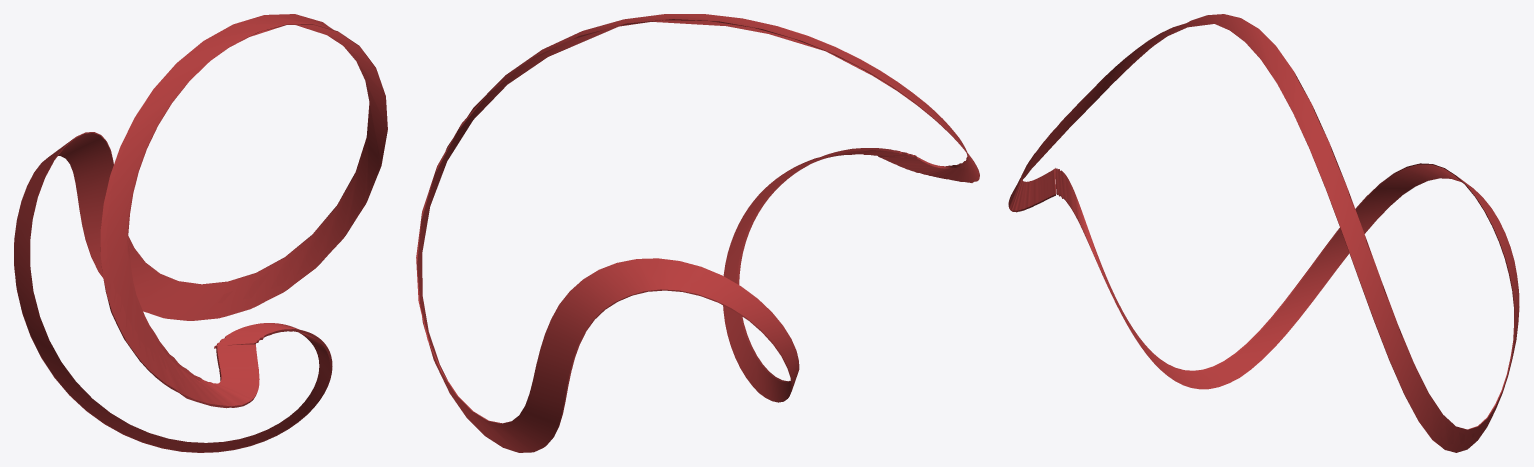
File: Mebius.fbx
3 views of the same model, side by side, from view 1: azimuth 30°, elevation 25°; view 2: azimuth 150°, elevation 25°; view 3: azimuth 270°, elevation 25° (orthographic). The views are drawn at different scales.
Parts seen in each view (by area): view 1: pCube1; view 2: pCube1; view 3: pCube1.
Part boxes in pixels (x1=…): pCube1: x1=14, y1=14, x2=387, y2=452; pCube1: x1=416, y1=14, x2=979, y2=452; pCube1: x1=1008, y1=14, x2=1519, y2=452.
Bounding box in the file's own units: 11.29 × 9.96 × 12.7.
